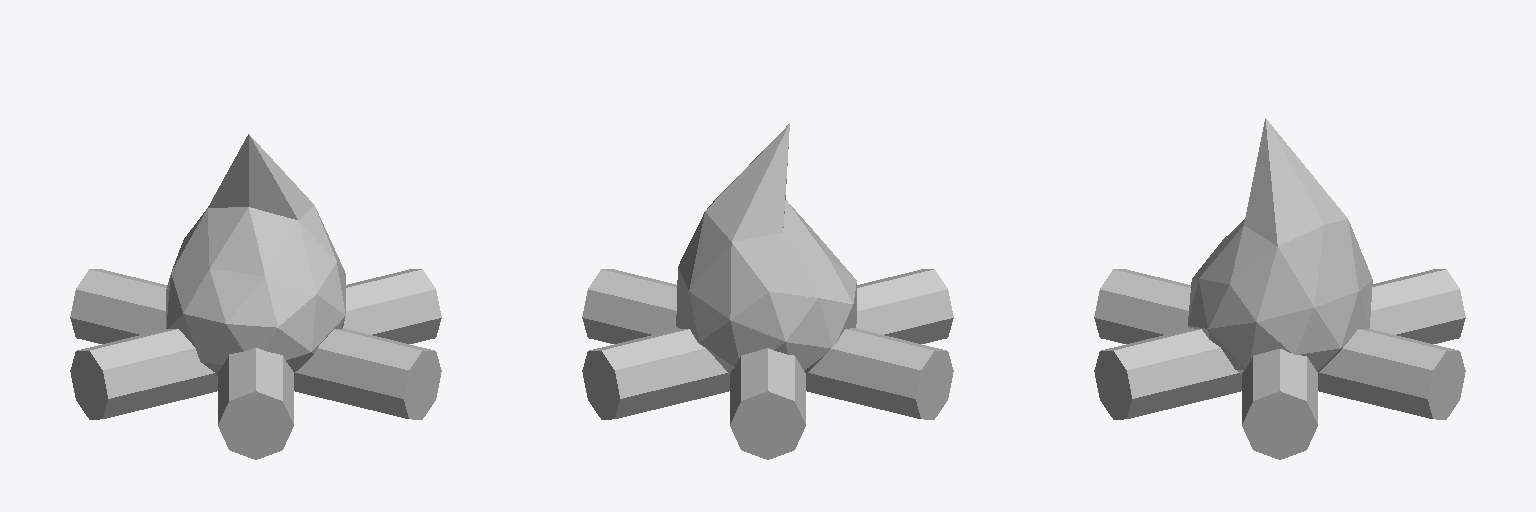
The model's file is fire.obj.
3 views of the same model, side by side, from view 1: azimuth 30°, elevation 25°; view 2: azimuth 150°, elevation 25°; view 3: azimuth 270°, elevation 25° (orthographic).
Visible parts, largest first — view 1: Icosphere; view 2: Icosphere; view 3: Icosphere.
Part boxes in pixels (x1,y1,x2,y2): Icosphere: (70, 134, 441, 459); Icosphere: (582, 123, 953, 459); Icosphere: (1094, 118, 1465, 459).
Size of the model in its own units: 0.6431 by 0.4844 by 0.6207.